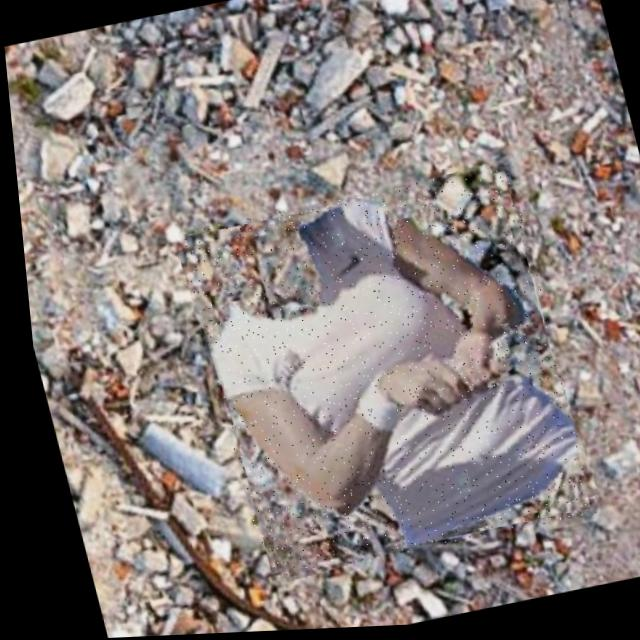Person in Rubble: (169, 166, 592, 585)
